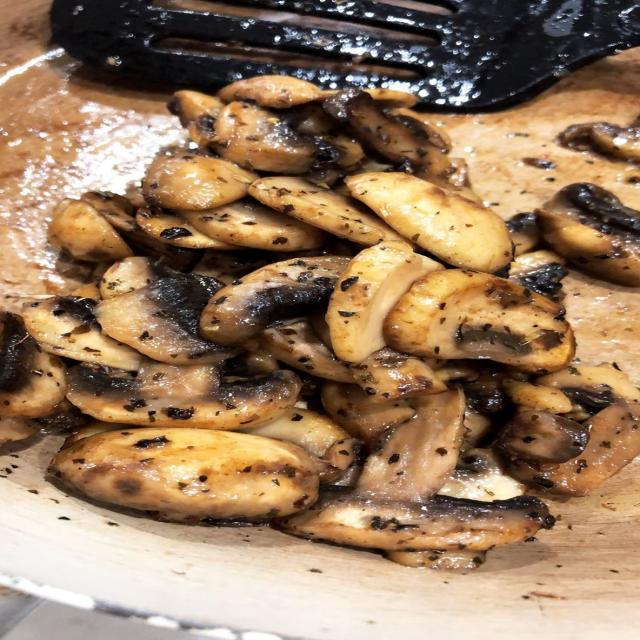champignon mushrooms: (280, 392, 553, 551), (50, 427, 318, 521), (386, 270, 574, 373), (497, 366, 639, 495), (345, 172, 513, 272), (280, 491, 554, 551), (67, 363, 300, 429), (327, 241, 443, 362), (200, 256, 348, 345), (95, 274, 237, 364), (508, 400, 639, 496), (357, 390, 465, 502), (249, 177, 404, 246), (323, 89, 447, 173), (538, 184, 639, 286), (81, 192, 200, 270), (23, 297, 143, 370), (244, 408, 359, 482), (180, 199, 328, 251), (212, 102, 319, 173), (0, 312, 66, 418), (143, 155, 258, 210), (321, 382, 415, 445), (261, 320, 353, 382), (350, 347, 446, 402), (494, 408, 589, 463), (48, 200, 133, 261), (536, 364, 639, 410), (294, 105, 365, 171), (440, 449, 524, 502), (136, 207, 237, 250), (218, 76, 325, 108), (559, 121, 639, 162), (100, 257, 175, 299), (509, 250, 567, 301), (193, 251, 273, 284), (503, 380, 572, 413), (81, 192, 136, 233), (387, 549, 486, 571), (62, 420, 139, 448), (167, 90, 224, 127), (31, 399, 89, 434), (222, 351, 279, 381), (507, 213, 541, 256), (461, 404, 492, 451), (0, 415, 39, 447), (364, 88, 418, 108), (364, 88, 418, 107), (72, 281, 101, 301)
